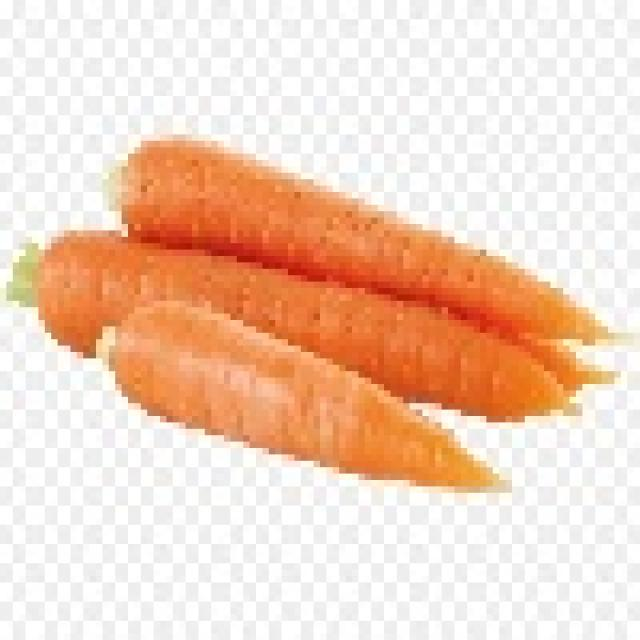Fresh_Carrot: (116, 134, 620, 351)
